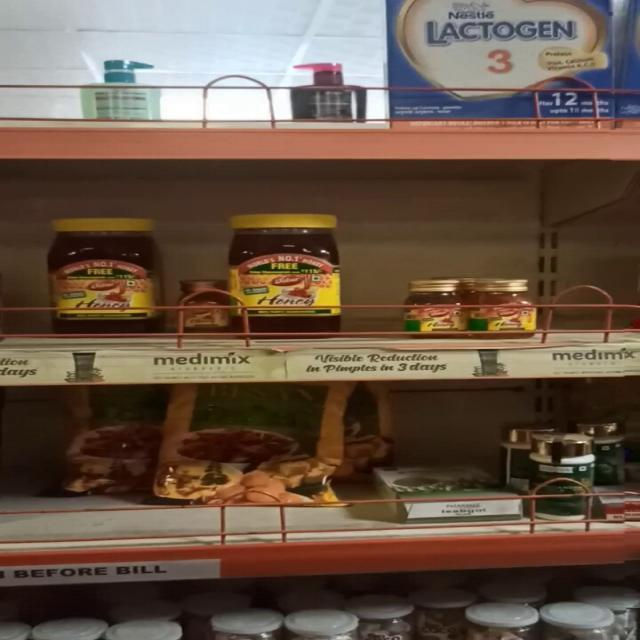Dabur Honey: (45, 215, 164, 338), (232, 212, 349, 335), (472, 276, 549, 340), (406, 278, 469, 340), (172, 279, 235, 335)
